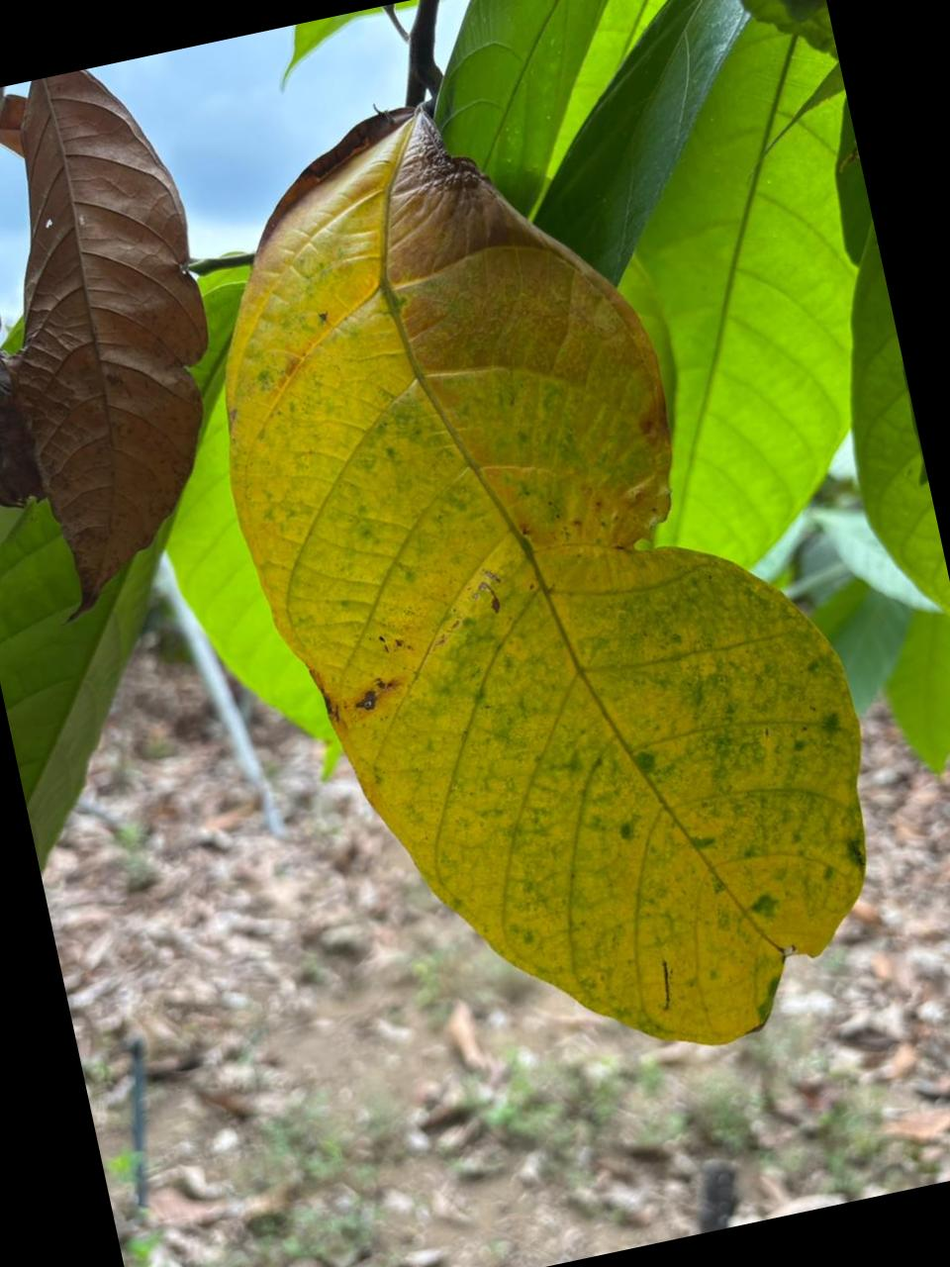Fosforo: (228, 114, 863, 1043)
